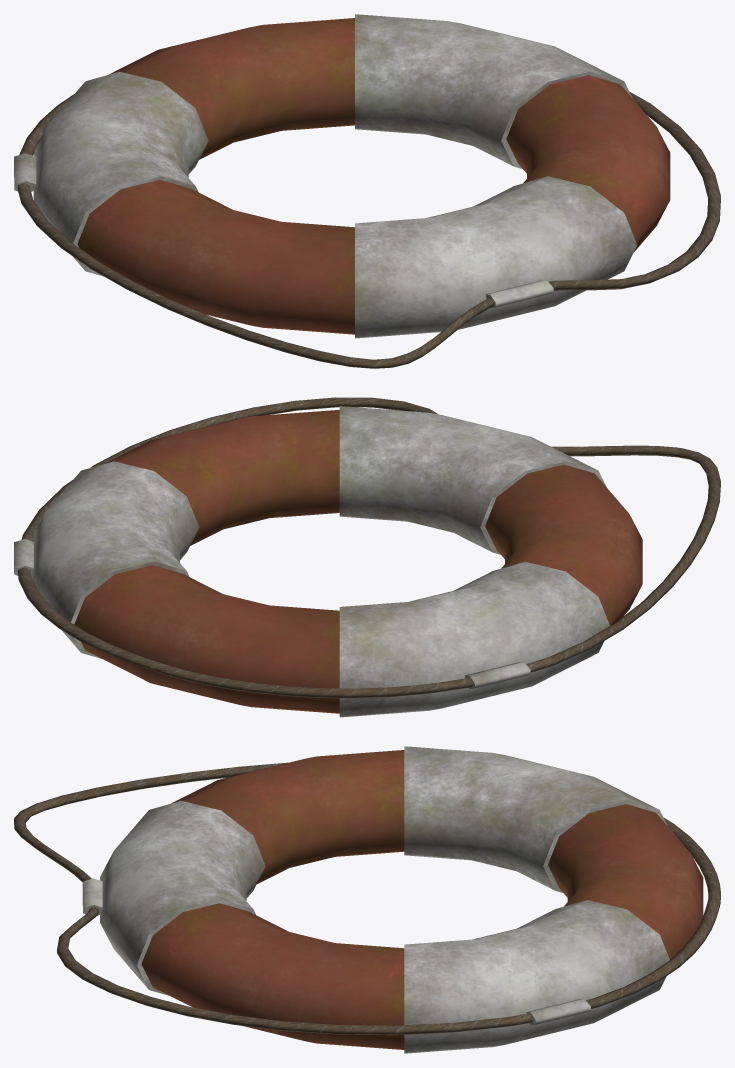
Rendered from life_preserver.glb.
3 views of the same model, one above another, from view 1: azimuth 30°, elevation 25°; view 2: azimuth 150°, elevation 25°; view 3: azimuth 270°, elevation 25° (orthographic). The views are drawn at different scales.
Visible parts, largest first — view 1: Torus.002_0; view 2: Torus.002_0; view 3: Torus.002_0.
Part boxes in pixels (x1,y1,x2,y2): Torus.002_0: (14, 14, 720, 368); Torus.002_0: (14, 397, 720, 717); Torus.002_0: (14, 746, 720, 1053).
Size of the model in its own units: 2.33 by 0.3584 by 2.56.
1 material, 1 textured.
